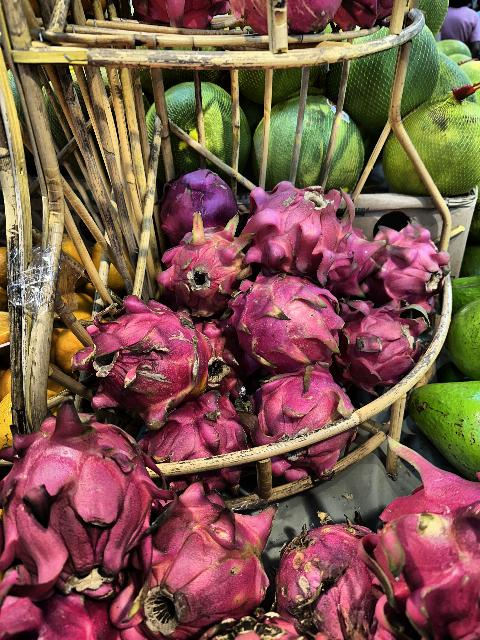buah-naga-belum-matang: (73, 291, 211, 424), (154, 219, 255, 303)
buah-naga-matang: (0, 397, 138, 585), (140, 472, 270, 622), (356, 486, 480, 640), (260, 508, 383, 640), (216, 267, 344, 365), (241, 376, 350, 480), (146, 394, 248, 498), (240, 176, 346, 274), (356, 225, 454, 308), (330, 296, 418, 382)
